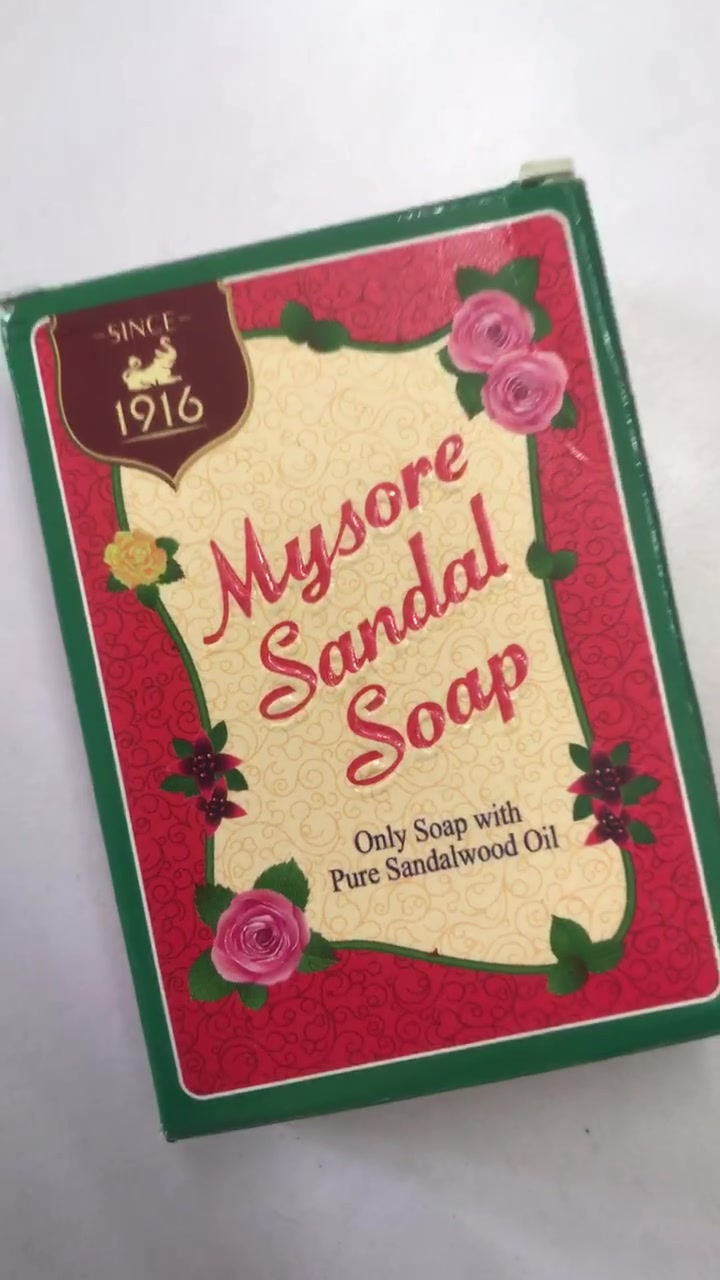mysore sandal soap: (10, 224, 720, 1111)
